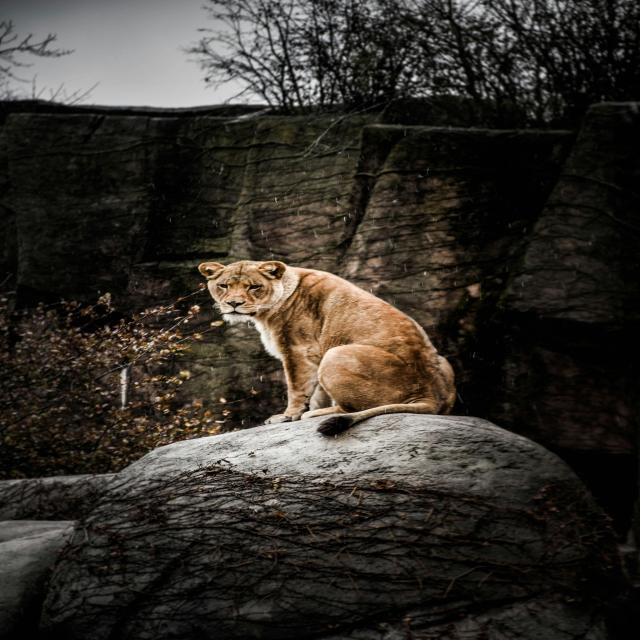Lion: (200, 262, 457, 436)
